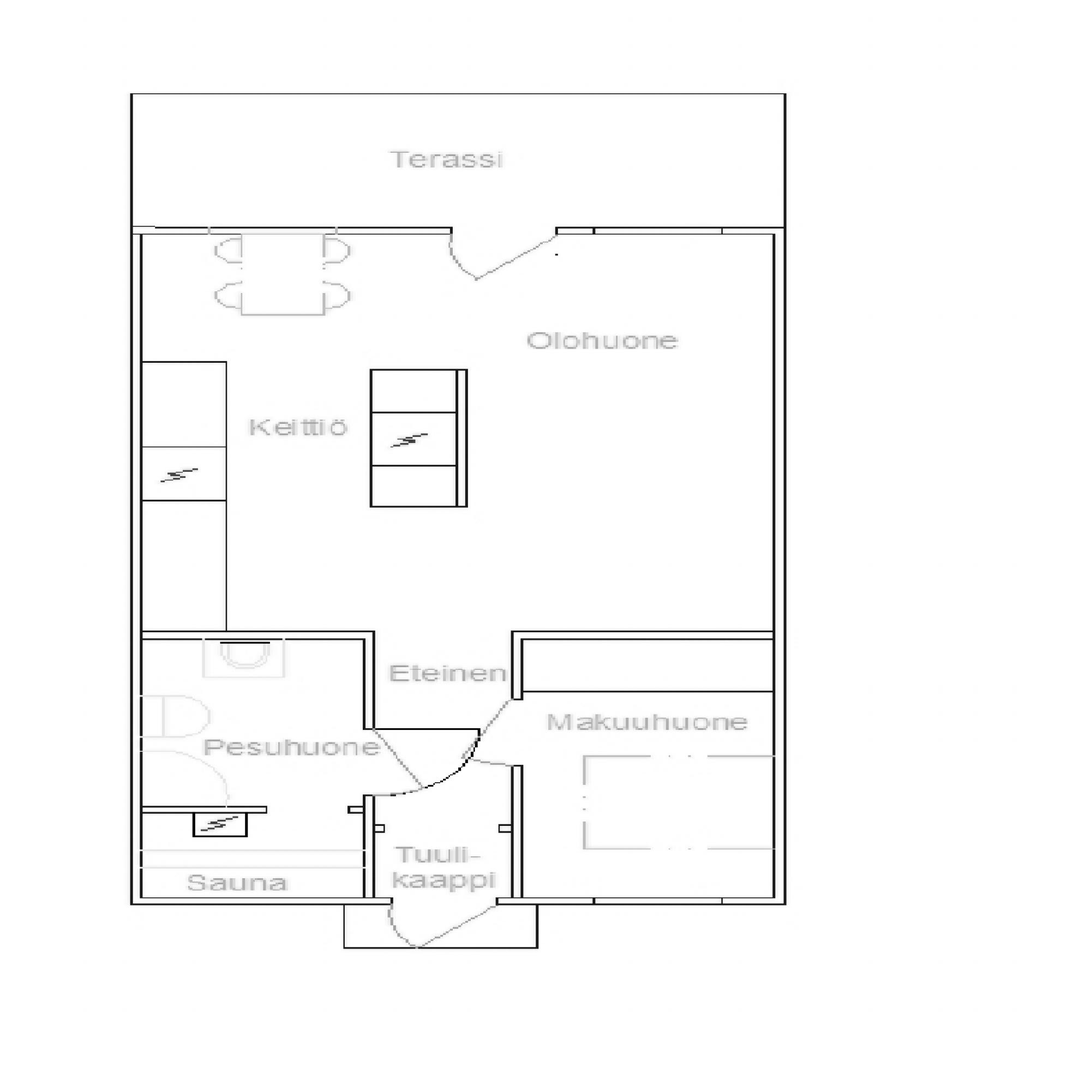wall: (775, 227, 786, 903), (131, 227, 142, 903), (132, 227, 786, 234), (132, 897, 786, 904), (364, 630, 375, 904), (511, 630, 522, 904), (511, 630, 786, 639), (132, 630, 375, 639), (456, 368, 469, 507), (132, 804, 375, 811), (375, 824, 522, 831)
